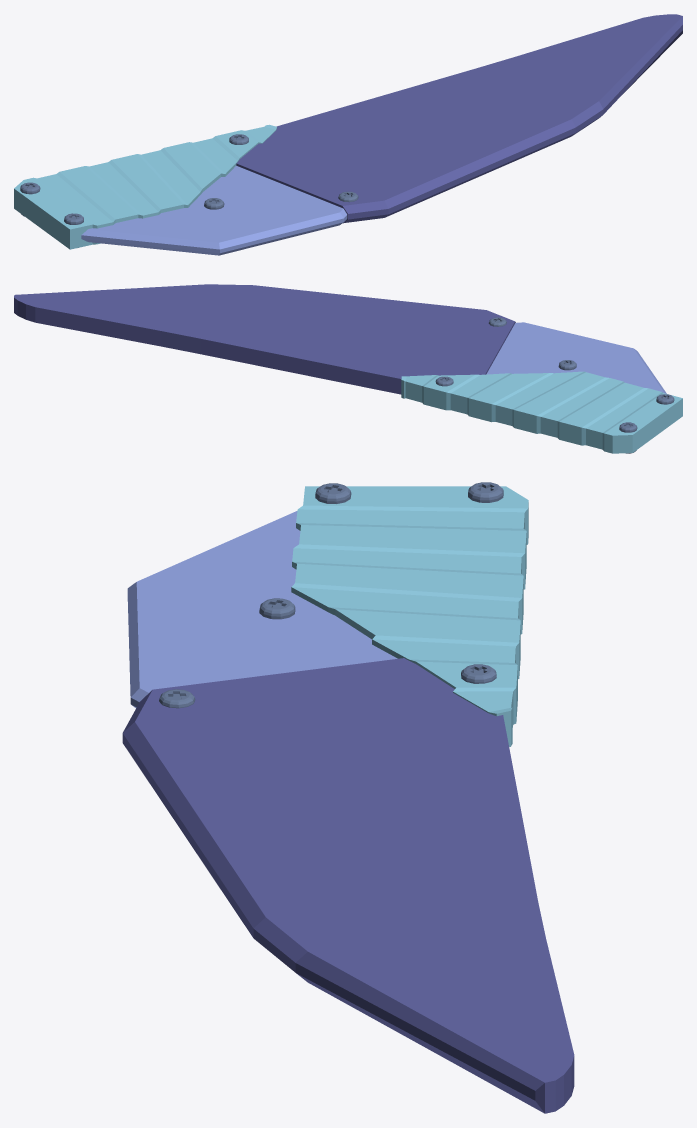
The model's file is DWingR.fbx.
3 renders of one model, top to bottom at view 1: azimuth 30°, elevation 25°; view 2: azimuth 150°, elevation 25°; view 3: azimuth 270°, elevation 25°, orthographic. The views are drawn at different scales.
Parts seen in each view (by area): view 1: DWing.R; view 2: DWing.R; view 3: DWing.R.
Boxes of the visible parts, left/top/right/bottom form: DWing.R: left=14, top=14, right=682, bottom=255; DWing.R: left=14, top=284, right=682, bottom=453; DWing.R: left=122, top=482, right=574, bottom=1113.
Size of the model in its own units: 996 by 39.96 by 320.
